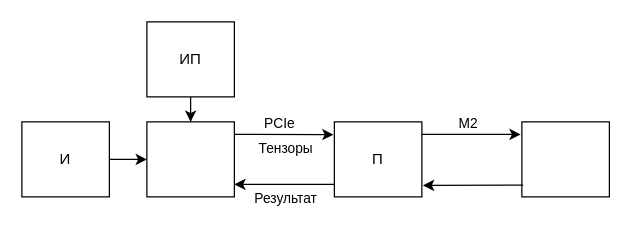
Some shapes in this 631 by 228 pixel diagram are drawn without their labels. Here are the shapes that lost their labels. From the top down, the centre of each, then its label:
At (x=190, y=159): "МК".
At (x=565, y=159): "ТПУ".
